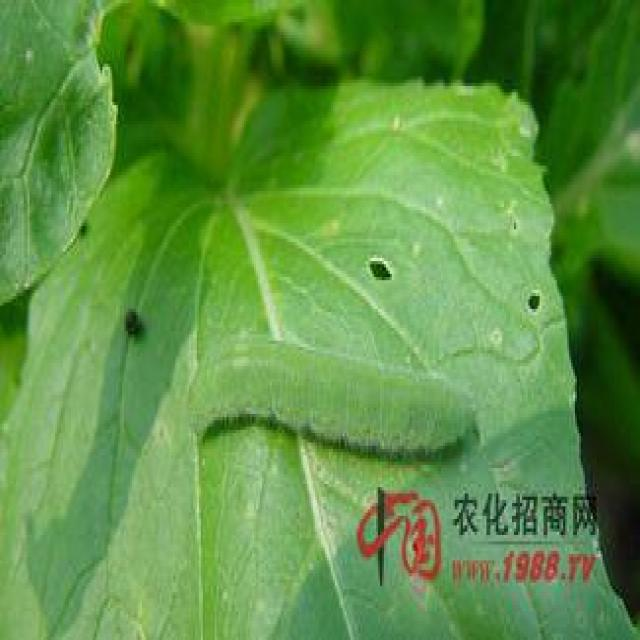BeetArmyWorm-Larva-: (174, 319, 493, 484)
